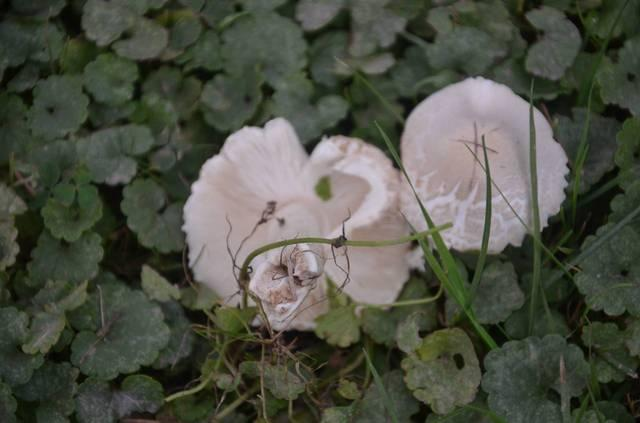poisonous_mushroom: (180, 116, 413, 332), (398, 74, 570, 259)
